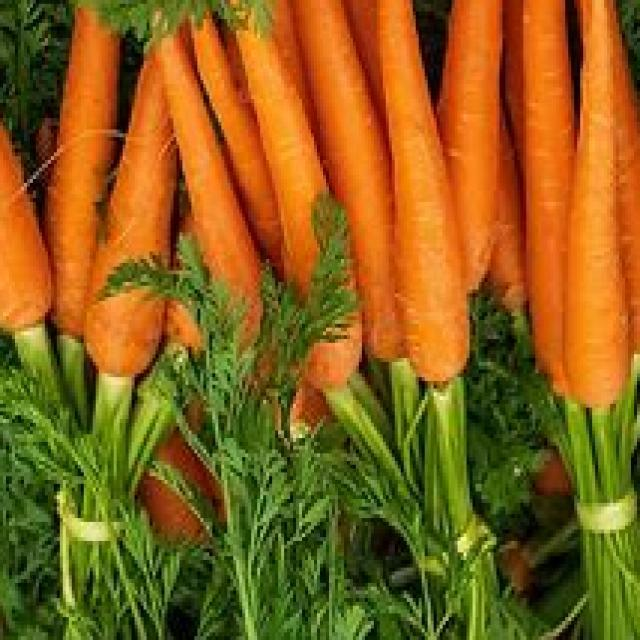carrot: (376, 1, 469, 386), (561, 9, 640, 408)
